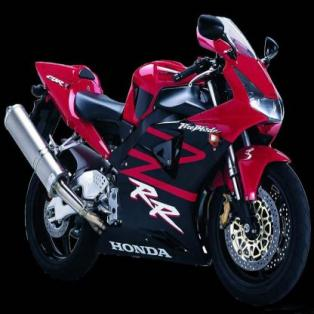Motocicleta: (4, 6, 313, 307)
